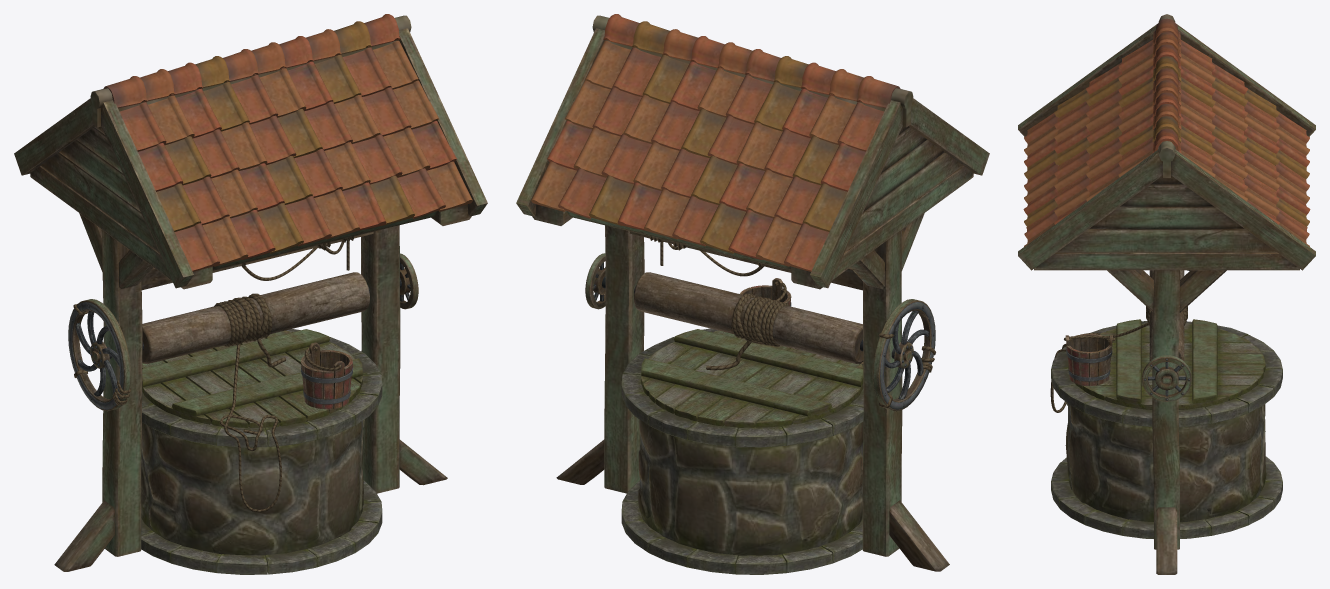
Rendered from Good_Ol_Well_Optimized.glb.
3 views of the same model, side by side, from view 1: azimuth 30°, elevation 25°; view 2: azimuth 150°, elevation 25°; view 3: azimuth 270°, elevation 25° (orthographic). The views are drawn at different scales.
Parts seen in each view (by area): view 1: Base_L; view 2: Base_L; view 3: Base_L.
Boxes of the visible parts, x1,y1,x2,y2 form: Base_L: (14, 14, 487, 574); Base_L: (516, 14, 989, 574); Base_L: (1018, 14, 1315, 574).
Size of the model in its own units: 2.74 by 3.23 by 2.09.
3 materials, 3 textured.
